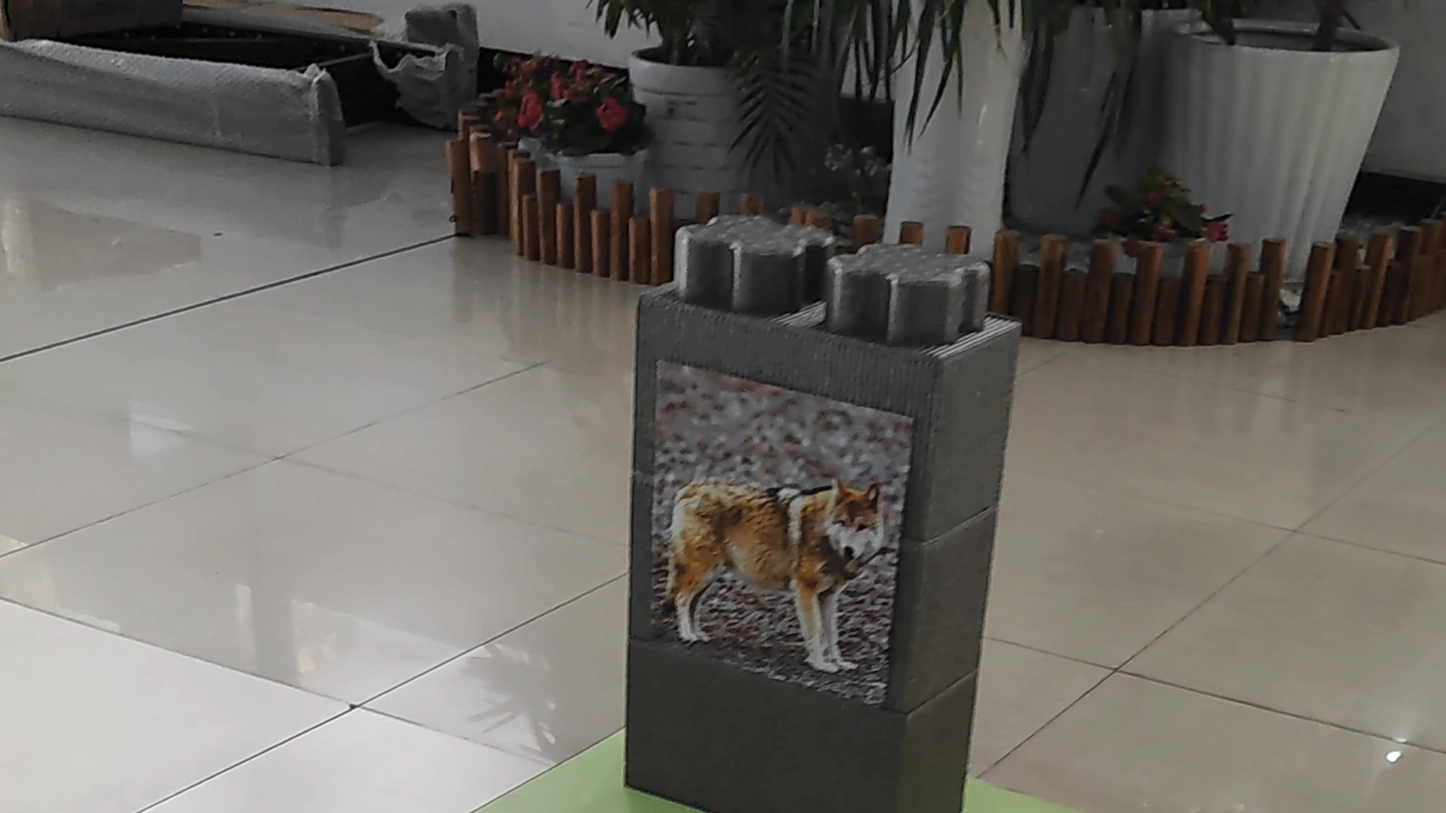wolf: (648, 364, 890, 691)
